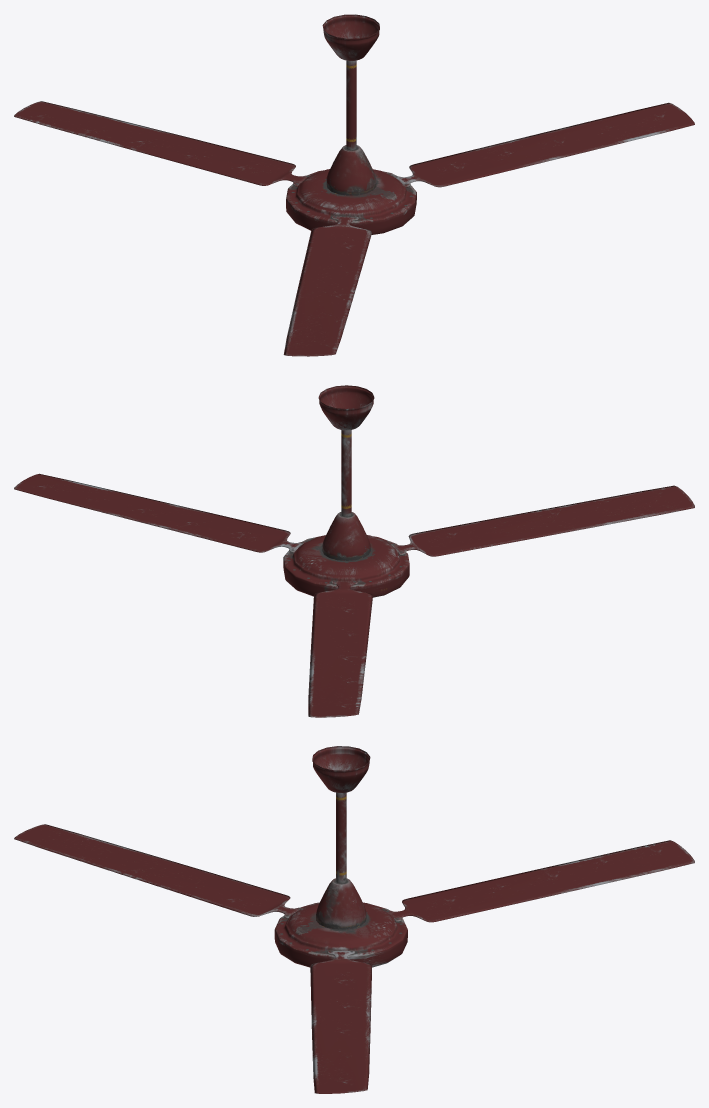
File: ceilingfan.glb
3 views of the same model, one above another, from view 1: azimuth 30°, elevation 25°; view 2: azimuth 150°, elevation 25°; view 3: azimuth 270°, elevation 25° (orthographic). The views are drawn at different scales.
Visible parts, largest first — view 1: FanHead, Holder; view 2: FanHead, Holder; view 3: FanHead, Holder.
Boxes of the visible parts, x1,y1,x2,y2 form: FanHead: (14,101,694,356); Holder: (322,14,379,195); FanHead: (14,473,694,717); Holder: (318,385,374,560); FanHead: (14,824,694,1093); Holder: (312,746,370,929).
Size of the model in its own units: 1.88 by 0.6362 by 2.
1 material, 1 textured.
